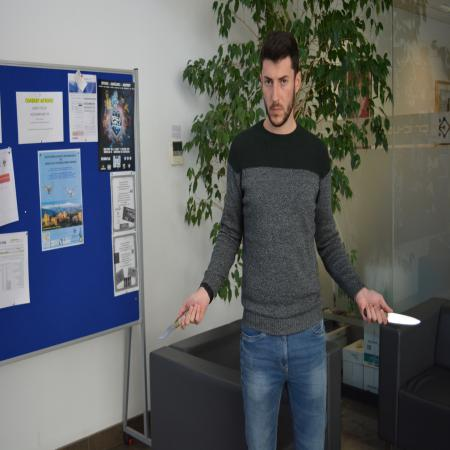long weapon: (362, 306, 424, 330), (156, 305, 191, 343)
